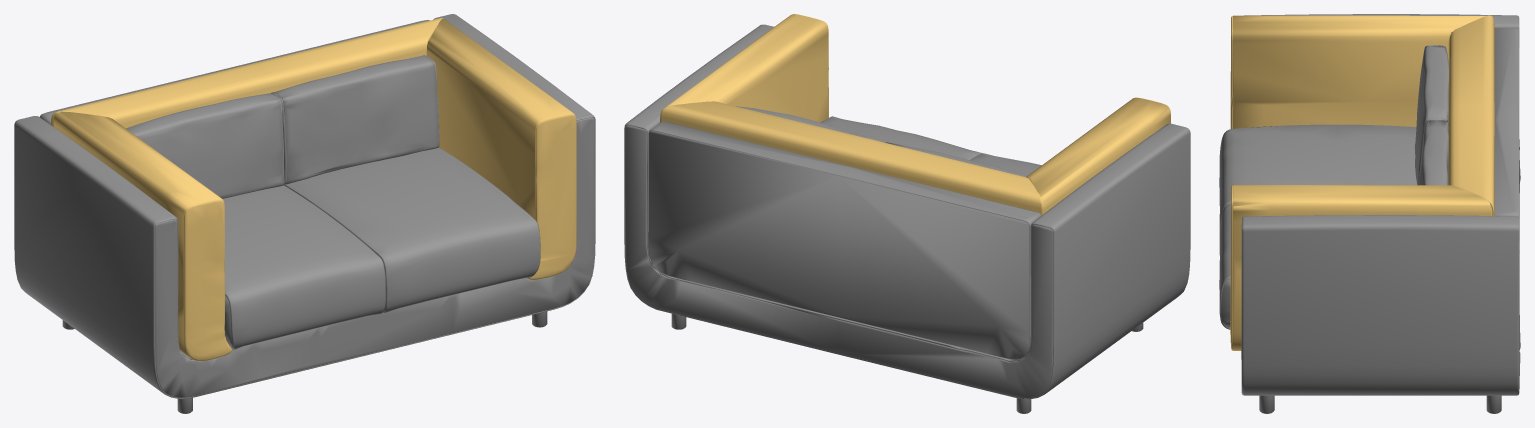
Rendered from divan1_1.FBX.
The picture shows the model from 3 angles, left to right: view 1: azimuth 30°, elevation 25°; view 2: azimuth 150°, elevation 25°; view 3: azimuth 270°, elevation 25°; orthographic projection. The views are drawn at different scales.
Visible parts, largest first — view 1: divan_part1, divan_part2; view 2: divan_part1, divan_part2; view 3: divan_part1, divan_part2.
Part boxes in pixels (bbox=[...]): divan_part1: bbox=[14, 14, 595, 413]; divan_part2: bbox=[51, 18, 576, 361]; divan_part1: bbox=[624, 24, 1190, 413]; divan_part2: bbox=[660, 14, 1170, 215]; divan_part1: bbox=[1219, 14, 1520, 413]; divan_part2: bbox=[1230, 15, 1494, 350].
Size of the model in its own units: 78.7 by 37.74 by 46.99.
